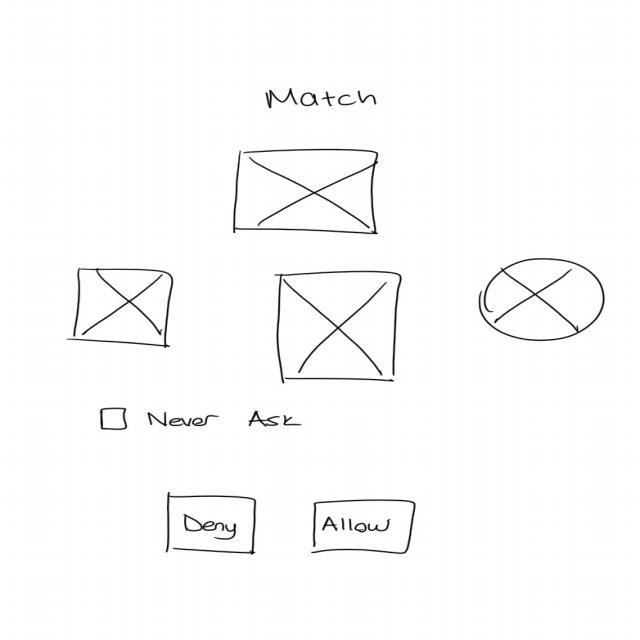button: (309, 498, 419, 557), (162, 493, 260, 559)
checkbox: (99, 406, 304, 434)
image: (275, 270, 404, 386), (233, 148, 385, 238), (478, 258, 608, 344), (70, 266, 174, 351)
label: (264, 86, 382, 114)
